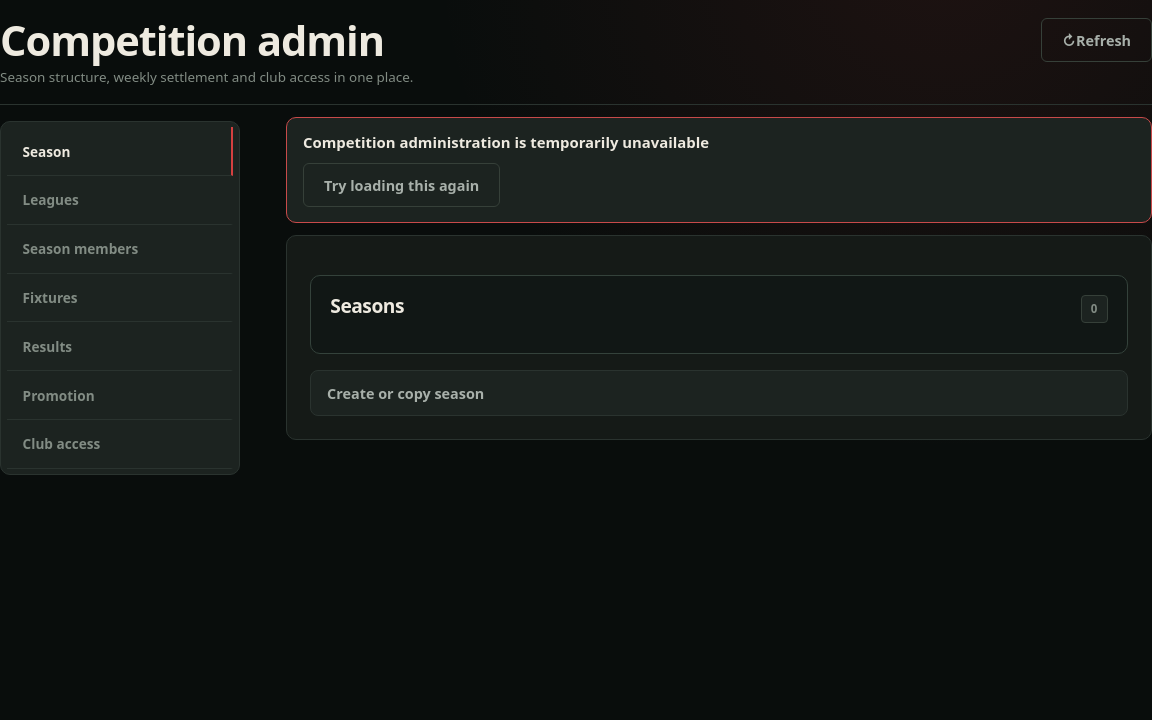
administrator load failure recovery › lets an administrator retry the initial competition workspace load
Expected: the message shows "Competition administration is temporarily unavailable", [303, 132, 709, 152]
Click the button "Try loading this again" at {"x": 402, "y": 185}, box [303, 163, 500, 207]
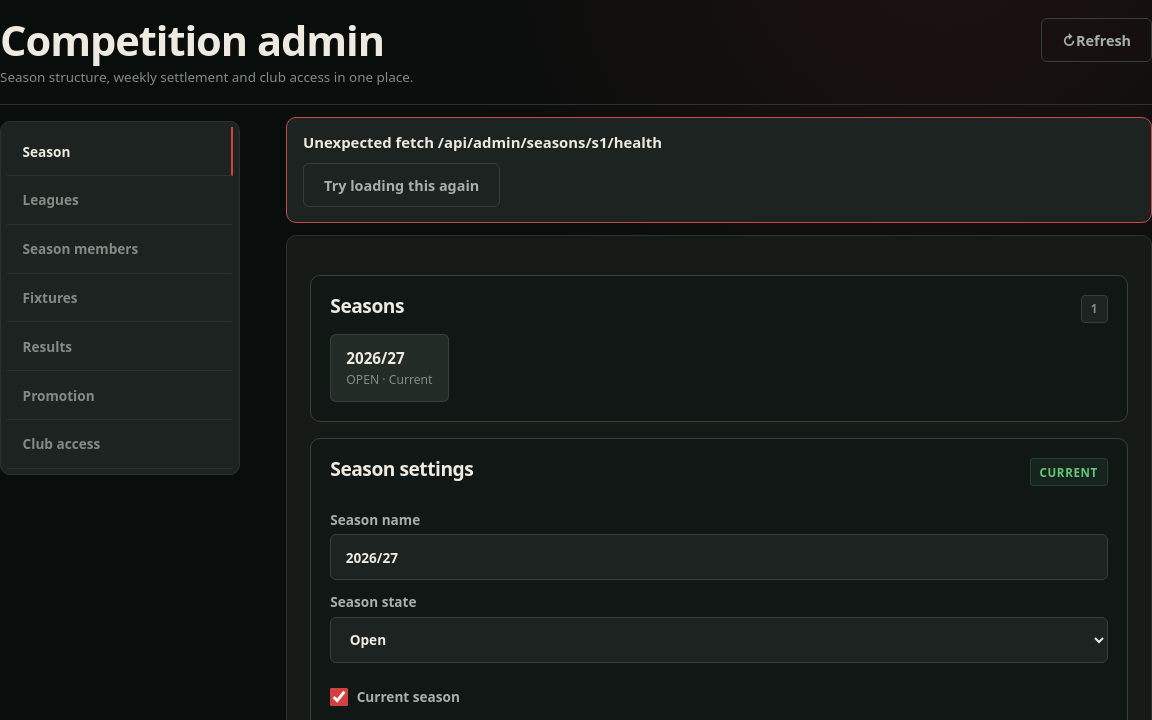
Expected: the heading "Competition admin" is shown, [0, 18, 414, 64]
Expected: the text "2026/27" is shown, [346, 348, 405, 368]
